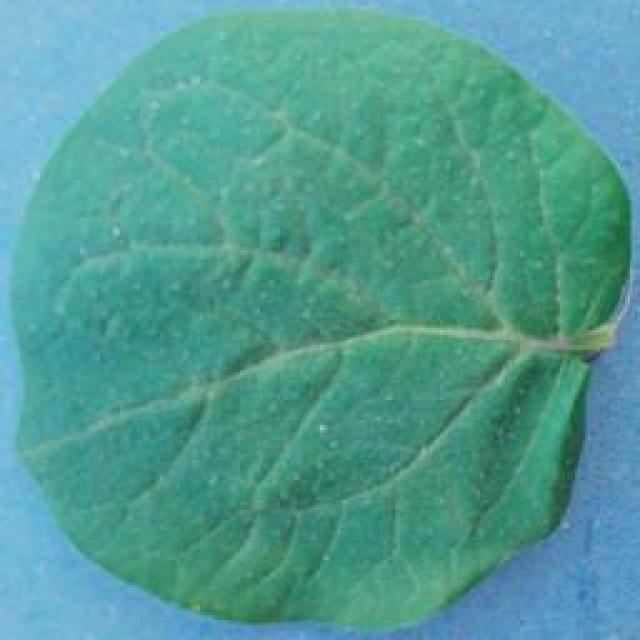Potato_Healthy: (10, 9, 624, 628)
